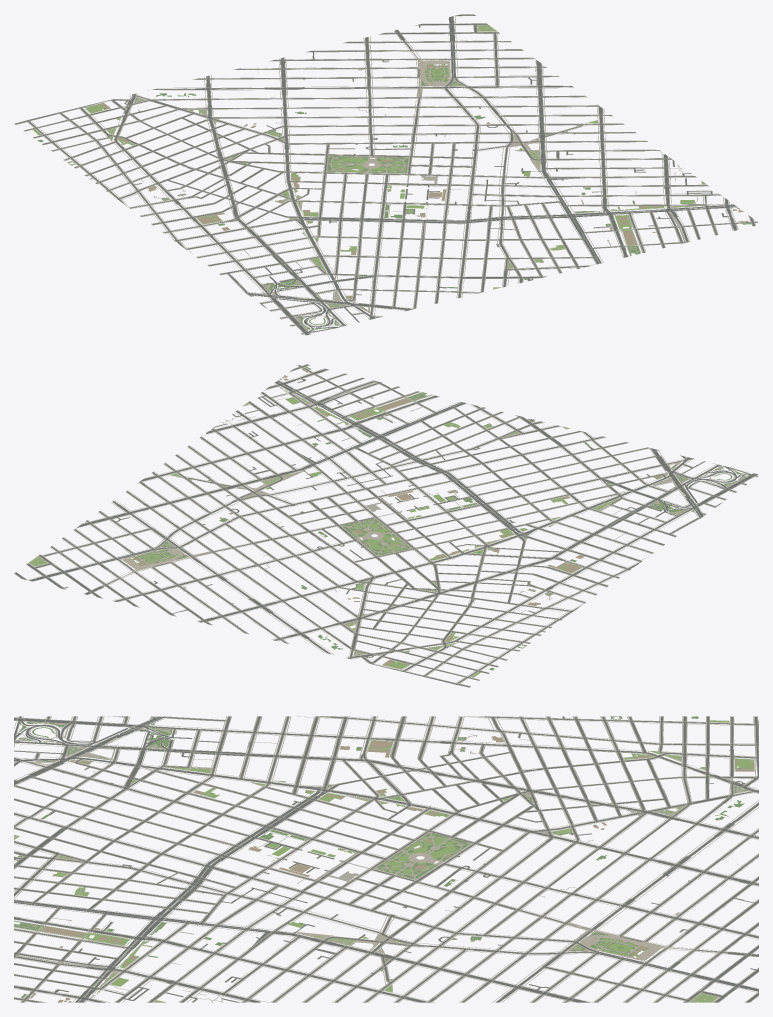
File: streets-parks.glb
The picture shows the model from 3 angles, top to bottom: view 1: azimuth 30°, elevation 25°; view 2: azimuth 150°, elevation 25°; view 3: azimuth 270°, elevation 25°; orthographic projection. The views are drawn at different scales.
Visible parts, largest first — view 1: Mapped walk surface, Mapped road surface, Mapped curb surface, Mapped crossing surface, Park lawn, Park garden, Park paving, Park play; view 2: Mapped walk surface, Mapped road surface, Mapped crossing surface, Park lawn, Park garden, Park paving, Mapped curb surface, Park play; view 3: Mapped walk surface, Mapped road surface, Park lawn, Mapped crossing surface, Mapped curb surface, Park garden, Park paving, Park play.
Boxes of the visible parts, left/top/right/bottom form: Mapped walk surface: left=15, top=14, right=758, bottom=335; Mapped road surface: left=15, top=14, right=757, bottom=335; Mapped curb surface: left=28, top=14, right=756, bottom=331; Mapped crossing surface: left=26, top=23, right=754, bottom=334; Park lawn: left=33, top=25, right=722, bottom=326; Park garden: left=38, top=64, right=751, bottom=331; Park paving: left=225, top=60, right=703, bottom=325; Park play: left=92, top=64, right=747, bottom=298; Mapped walk surface: left=14, top=364, right=758, bottom=687; Mapped road surface: left=14, top=364, right=757, bottom=687; Mapped crossing surface: left=35, top=366, right=755, bottom=684; Park lawn: left=29, top=387, right=688, bottom=677; Park garden: left=134, top=366, right=746, bottom=670; Park paving: left=120, top=393, right=734, bottom=591; Mapped curb surface: left=34, top=366, right=753, bottom=680; Park play: left=133, top=369, right=660, bottom=667; Mapped walk surface: left=14, top=716, right=758, bottom=1002; Mapped road surface: left=14, top=716, right=758, bottom=1002; Park lawn: left=14, top=720, right=758, bottom=1002; Mapped crossing surface: left=14, top=716, right=758, bottom=1002; Mapped curb surface: left=14, top=716, right=758, bottom=1002; Park garden: left=14, top=716, right=747, bottom=1002; Park paving: left=14, top=716, right=664, bottom=987; Park play: left=30, top=736, right=754, bottom=1002.
Bounding box in the file's own units: 1920 × 0.74 × 2112.
